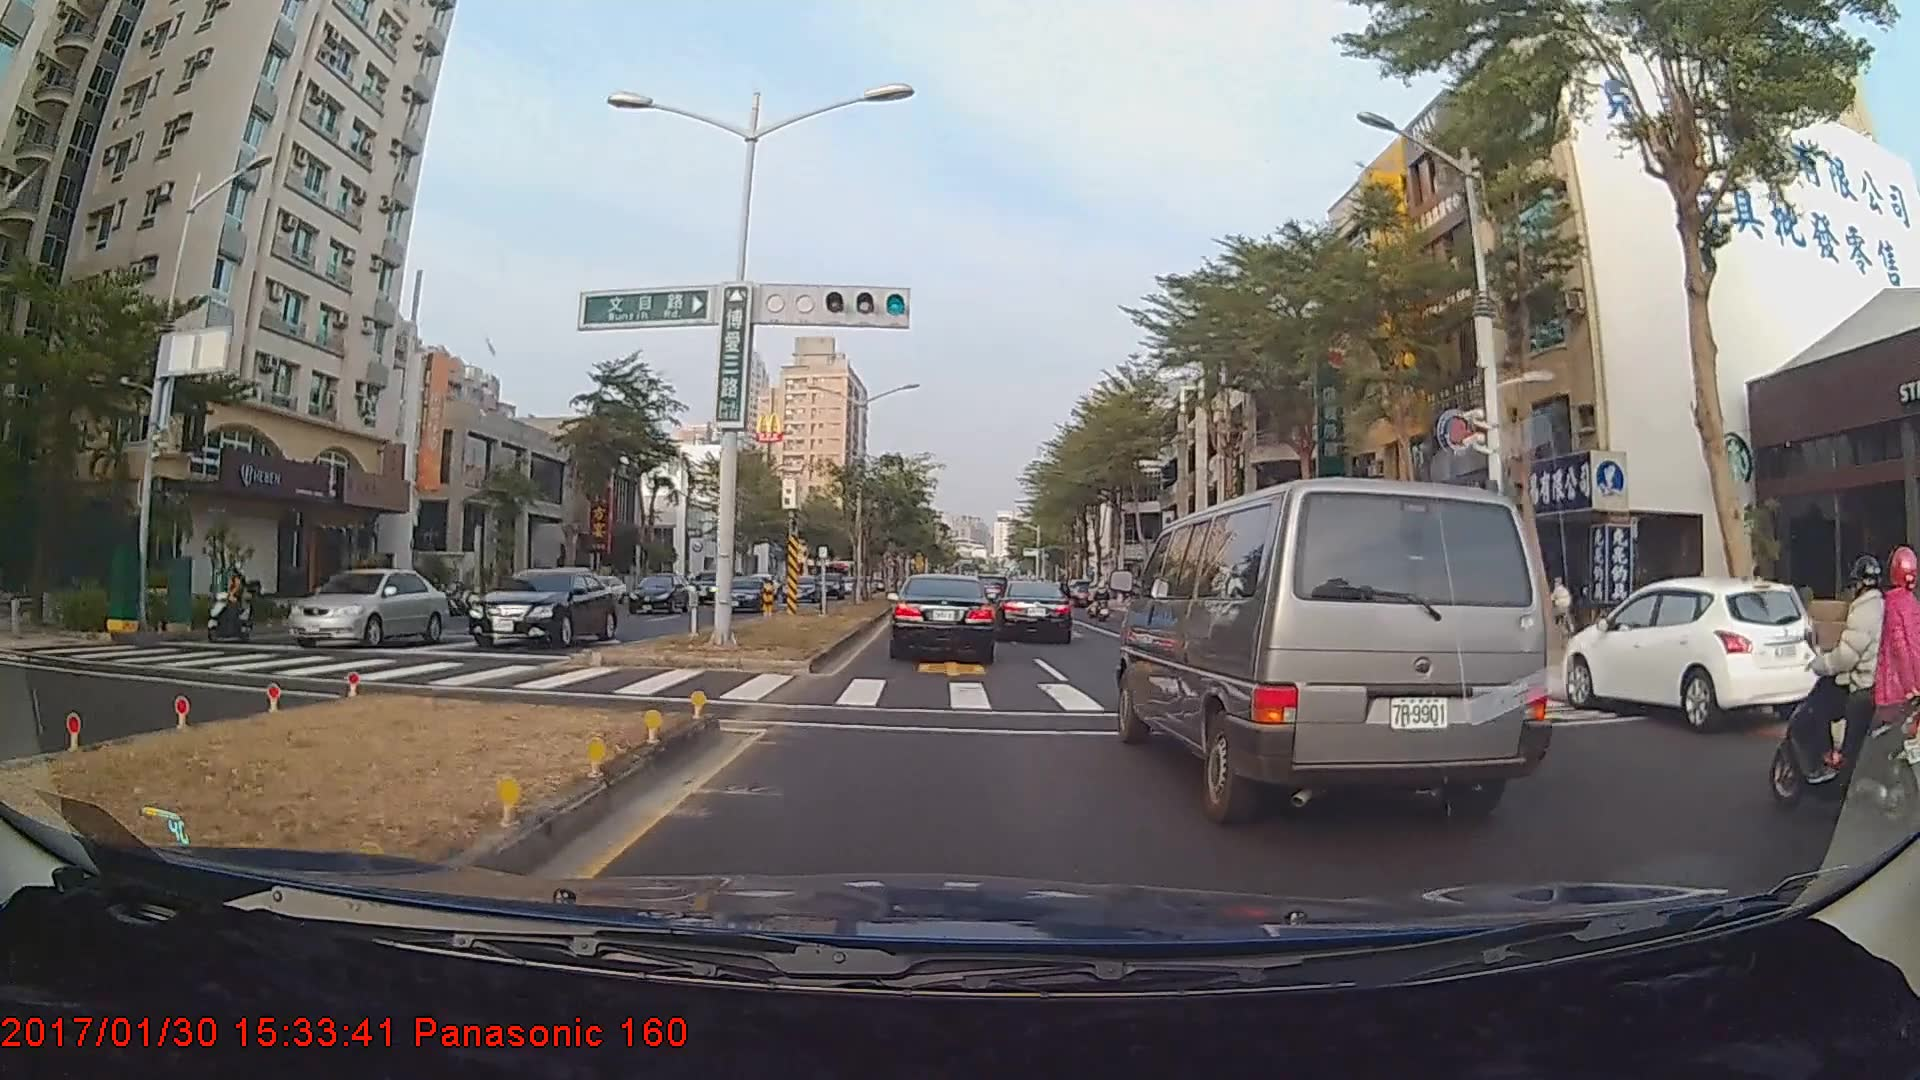rider: (1769, 555, 1918, 815), (204, 566, 259, 644)
vehicle: (1127, 470, 1549, 818), (1563, 574, 1812, 726), (284, 568, 447, 652), (466, 567, 618, 649), (890, 575, 996, 662), (995, 578, 1073, 644), (627, 573, 691, 615), (715, 574, 768, 610), (779, 573, 819, 603)
